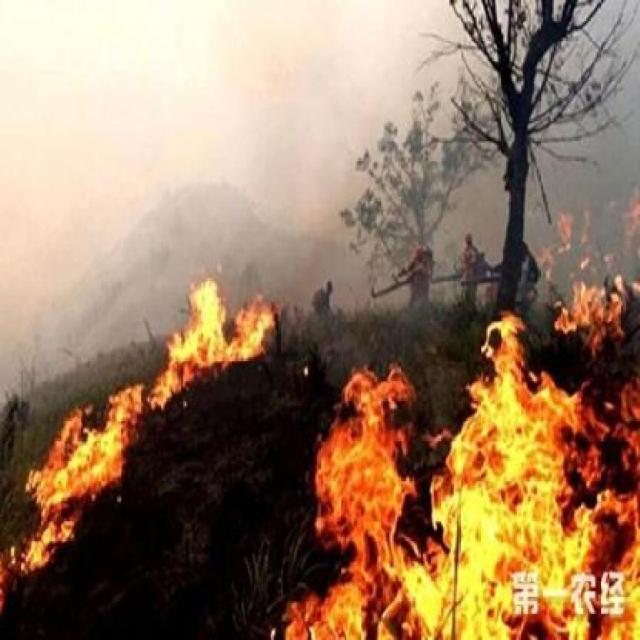Fire: (287, 284, 638, 640), (4, 277, 284, 606), (545, 194, 640, 290)
